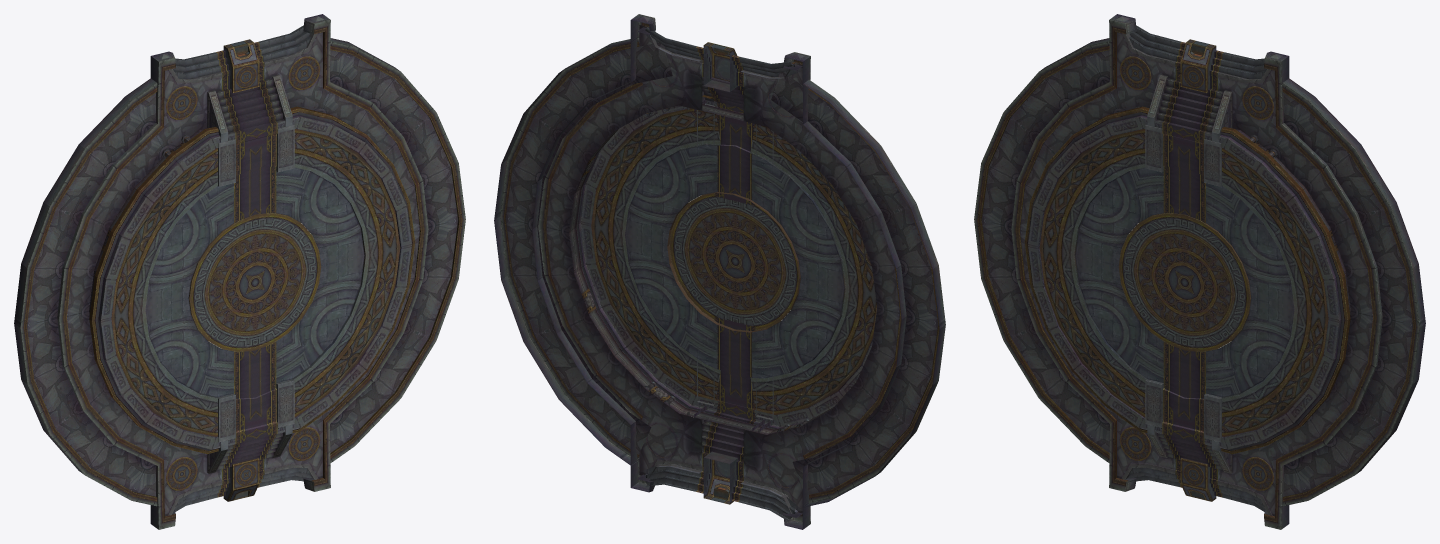
The model's file is huodong_fuben_651_pingtai01.obj.
The picture shows the model from 3 angles, left to right: view 1: azimuth 30°, elevation 25°; view 2: azimuth 150°, elevation 25°; view 3: azimuth 330°, elevation 25°; orthographic projection.
Visible parts, largest first — view 1: huodong_fuben_651_pingtai02; view 2: huodong_fuben_651_pingtai02; view 3: huodong_fuben_651_pingtai02.
Part boxes in pixels (box(x1,y1,x2,y2)): huodong_fuben_651_pingtai02: box(14, 14, 465, 529); huodong_fuben_651_pingtai02: box(494, 14, 945, 529); huodong_fuben_651_pingtai02: box(974, 14, 1425, 529).
Bounding box in the file's own units: 2310 × 2346 × 181.
4 materials, 4 textured.
